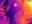Hotspot: (27, 0, 31, 8)
